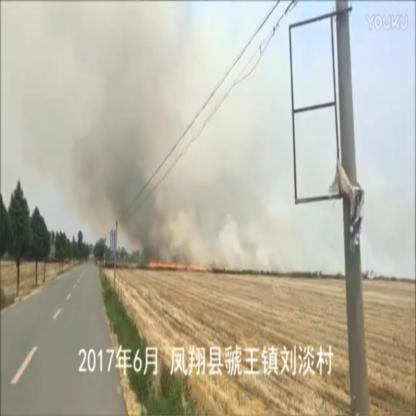smoke: (96, 34, 179, 156), (168, 218, 312, 264), (107, 158, 161, 242)
